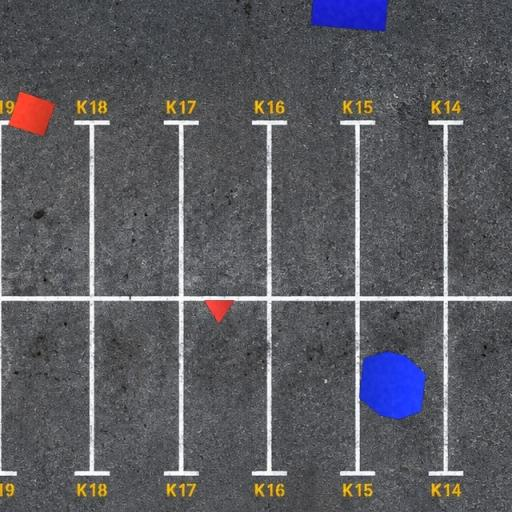RED_SQUARE: (7, 90, 57, 138)
